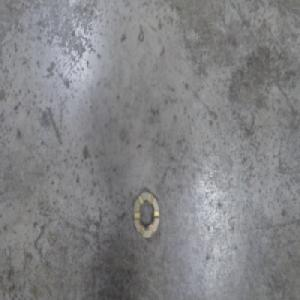Nut: (131, 186, 160, 241)
